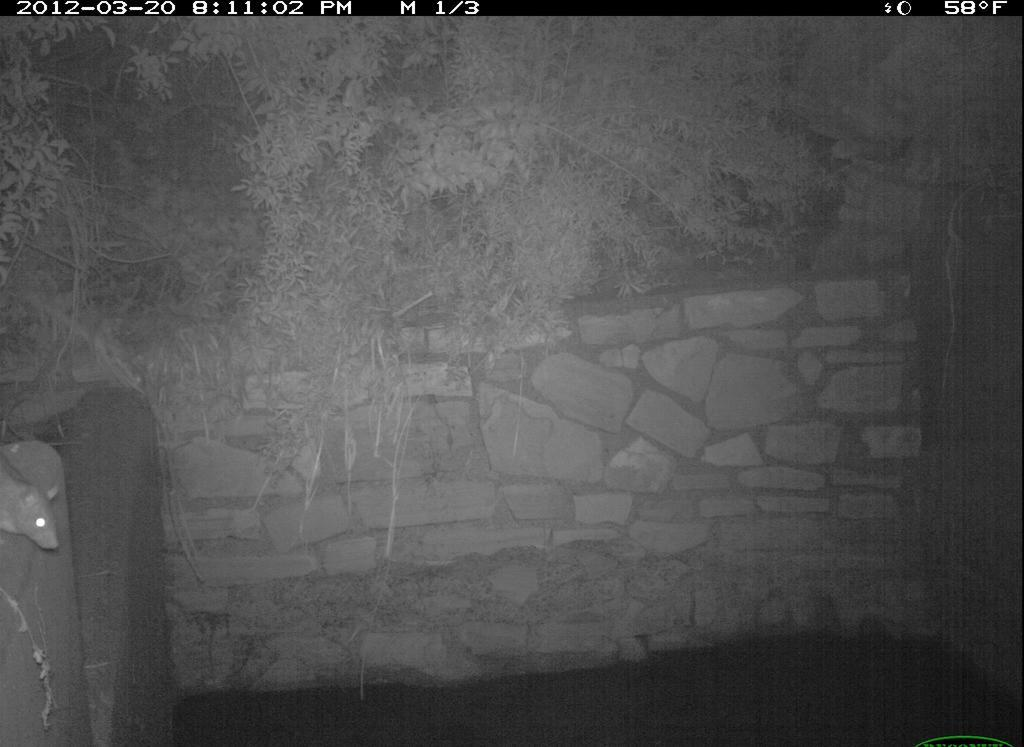rodent: (3, 441, 70, 562)
